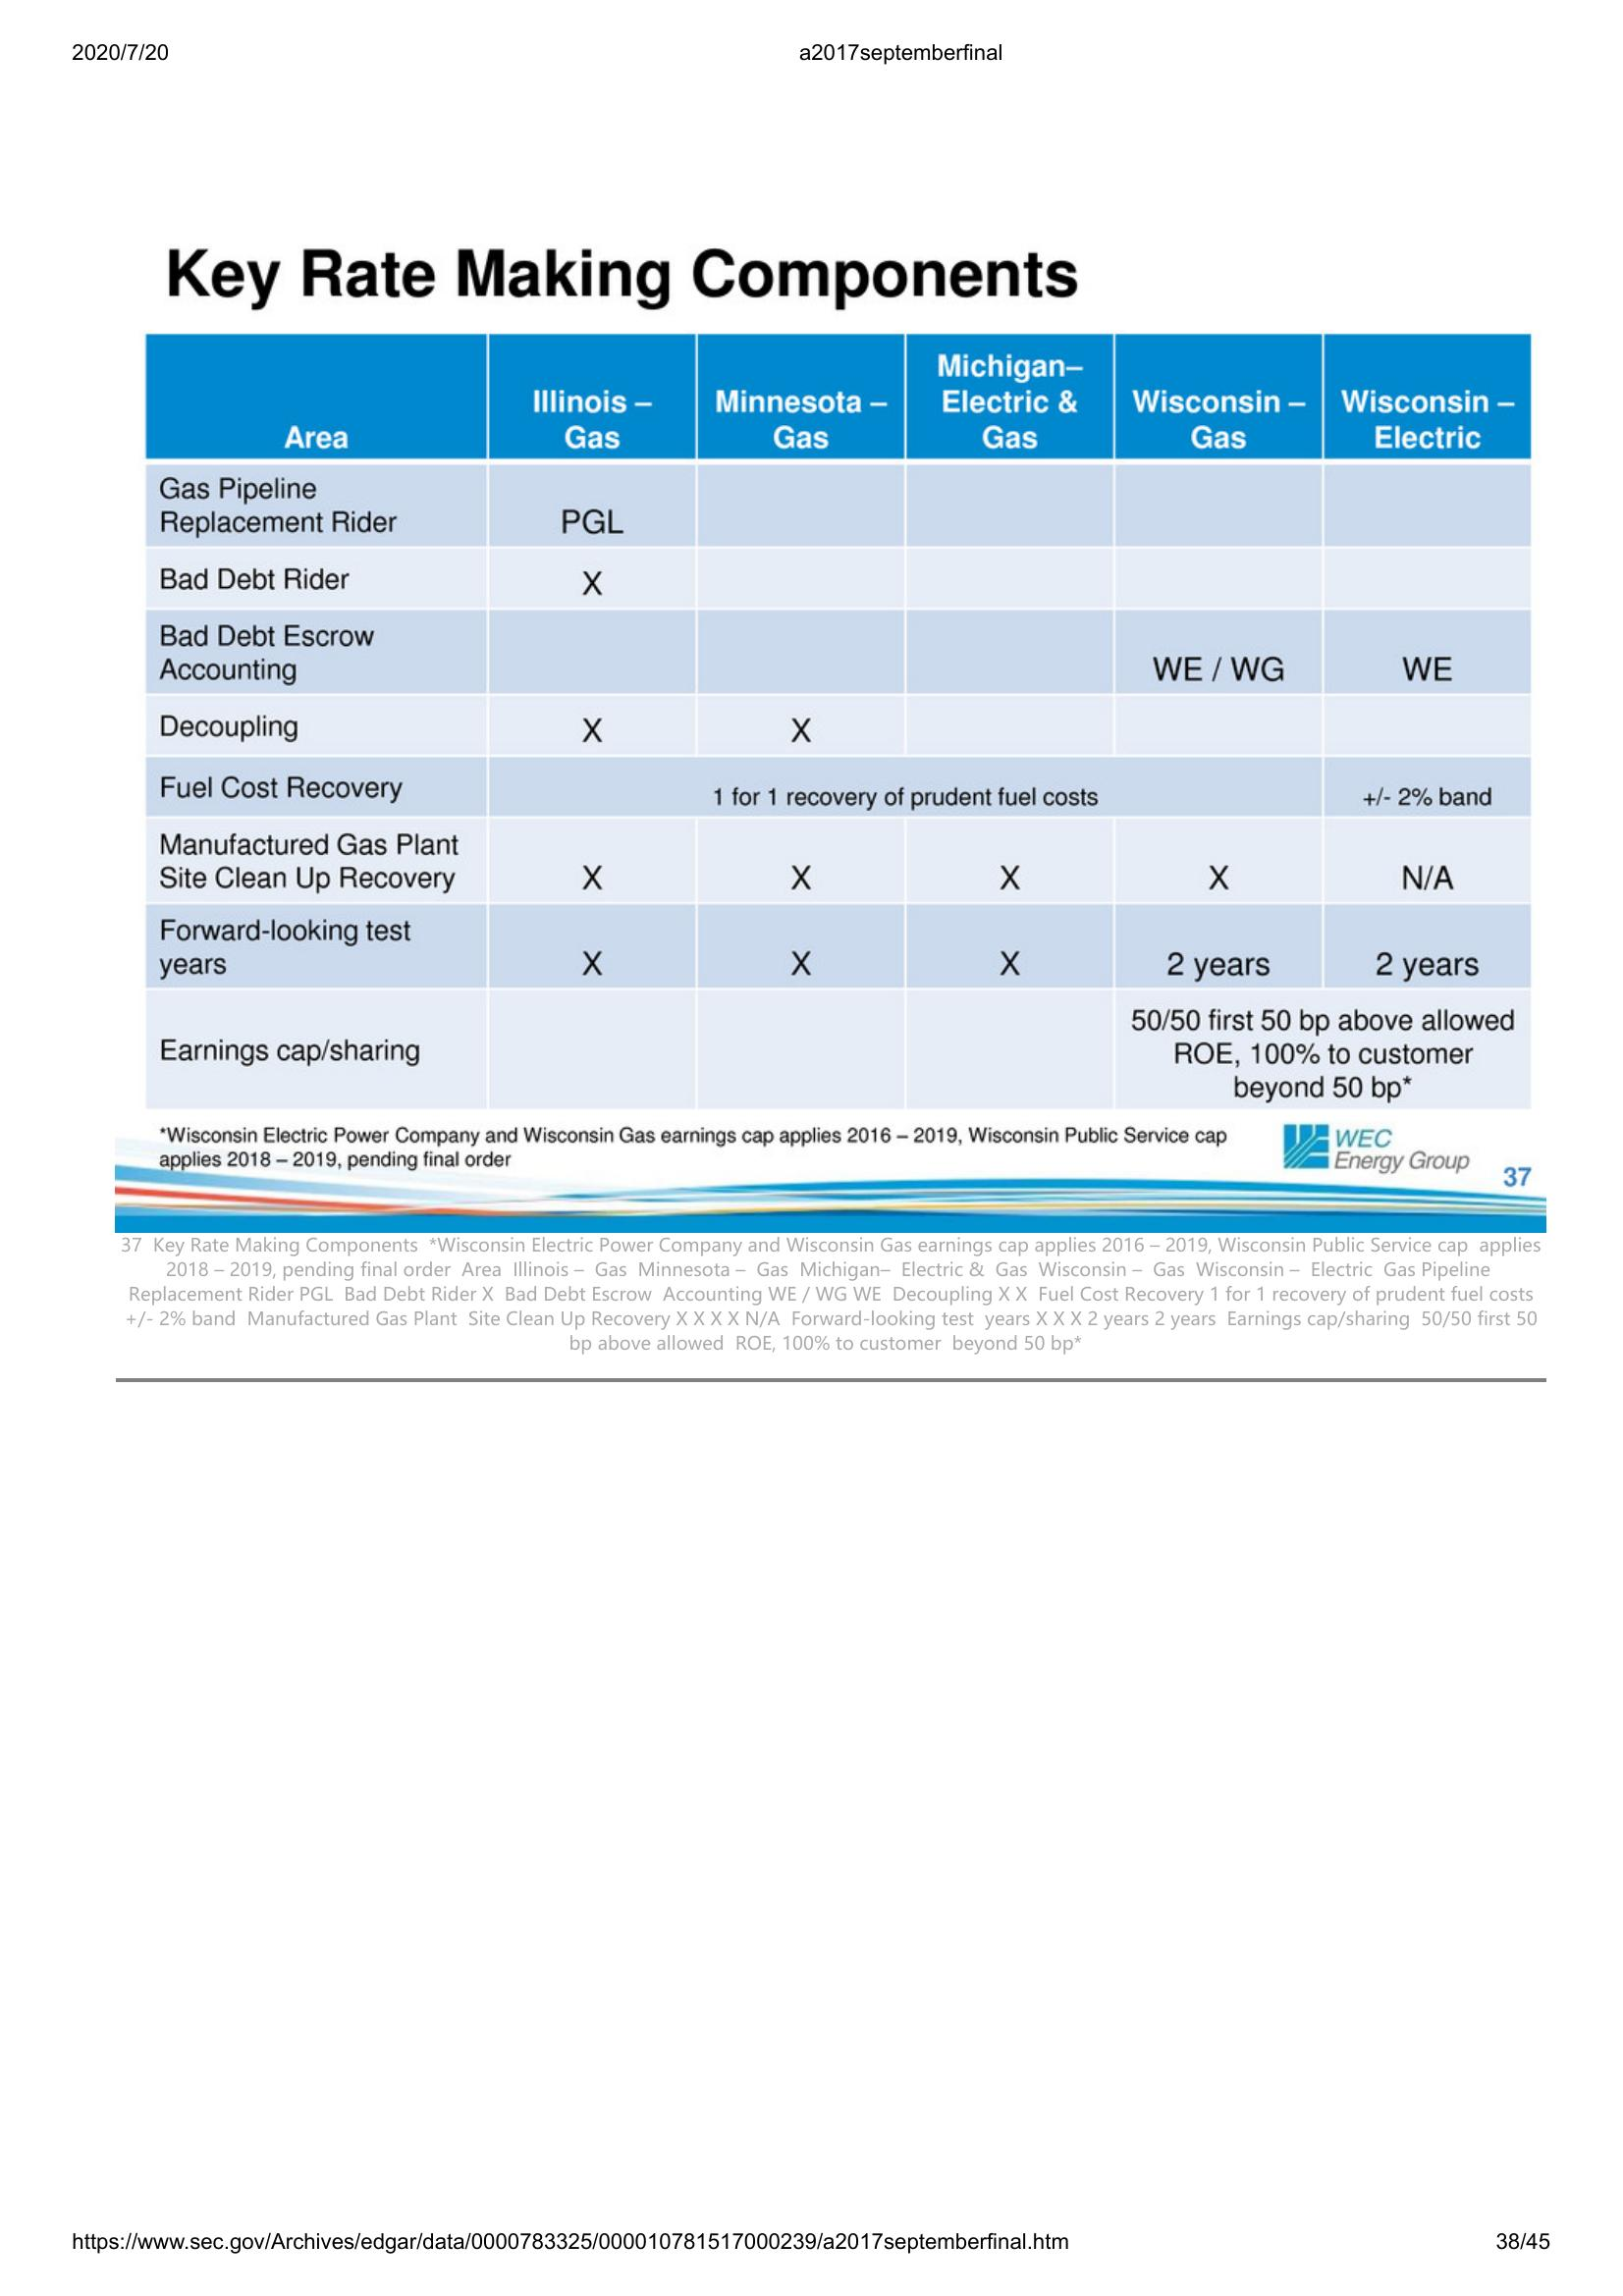table: (141, 325, 1542, 1122)
